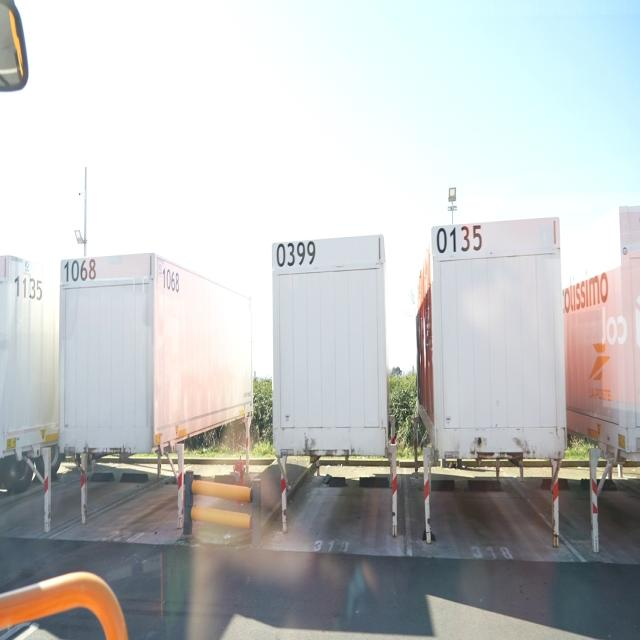Code: (434, 221, 482, 257), (275, 240, 318, 274), (62, 256, 97, 288), (11, 272, 44, 304), (161, 262, 183, 294)
